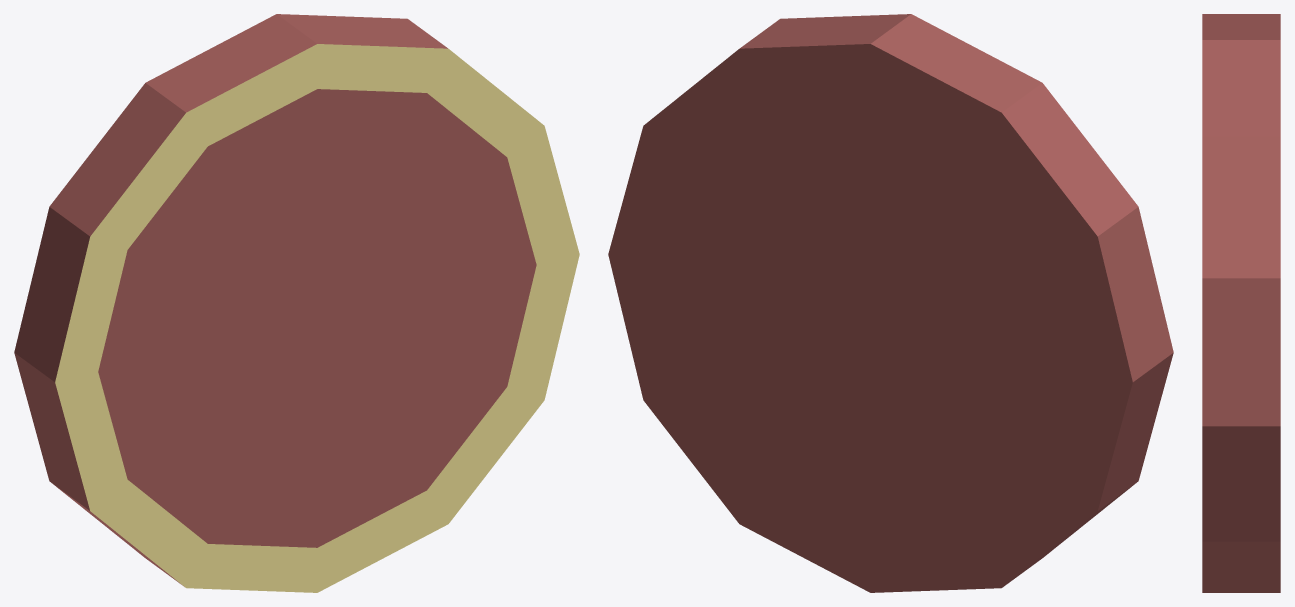
The model's file is sign_red.glb.
3 views of the same model, side by side, from view 1: azimuth 30°, elevation 25°; view 2: azimuth 150°, elevation 25°; view 3: azimuth 270°, elevation 25° (orthographic). The views are drawn at different scales.
Parts seen in each view (by area): view 1: Disc; view 2: Disc; view 3: Disc.
Boxes of the visible parts, box(x1,y1,x2,y2) form: Disc: box(14, 14, 579, 592); Disc: box(608, 14, 1173, 592); Disc: box(1202, 14, 1280, 592).
Size of the model in its own units: 0.63 by 0.63 by 0.085.
